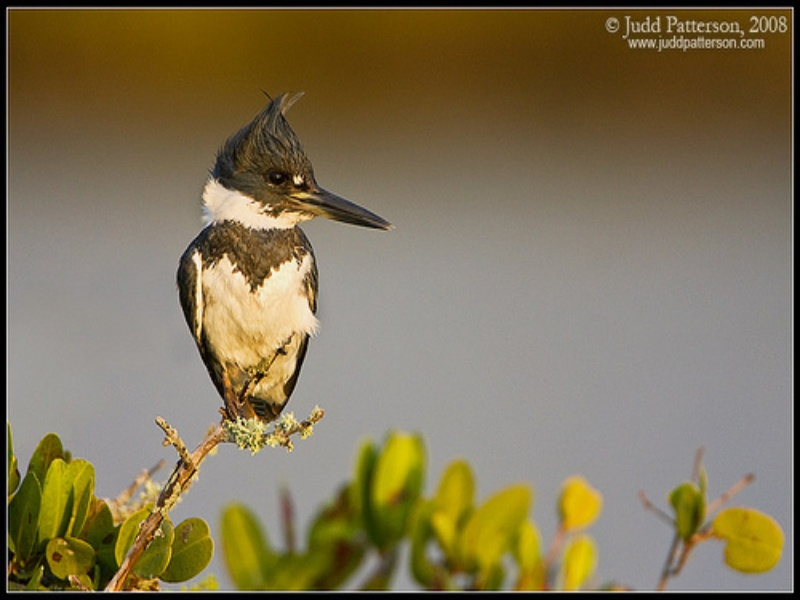kingfisher: (164, 75, 403, 438)
